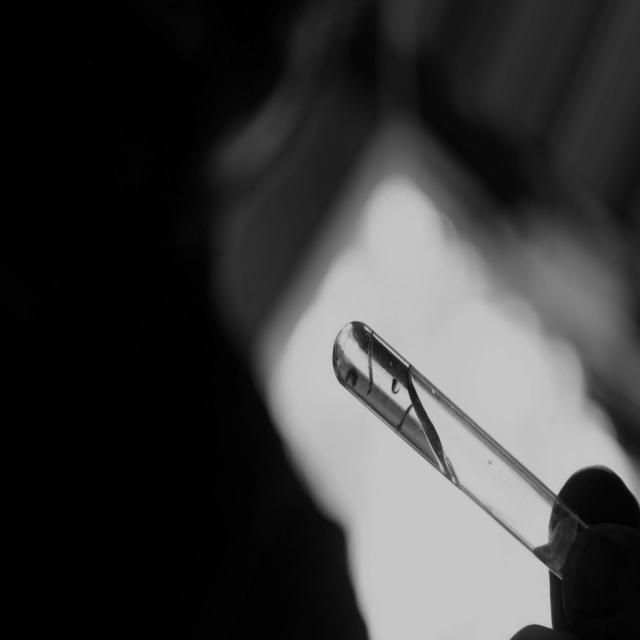larvas: (395, 399, 414, 430), (366, 332, 374, 394), (346, 365, 358, 387), (390, 375, 400, 394)
